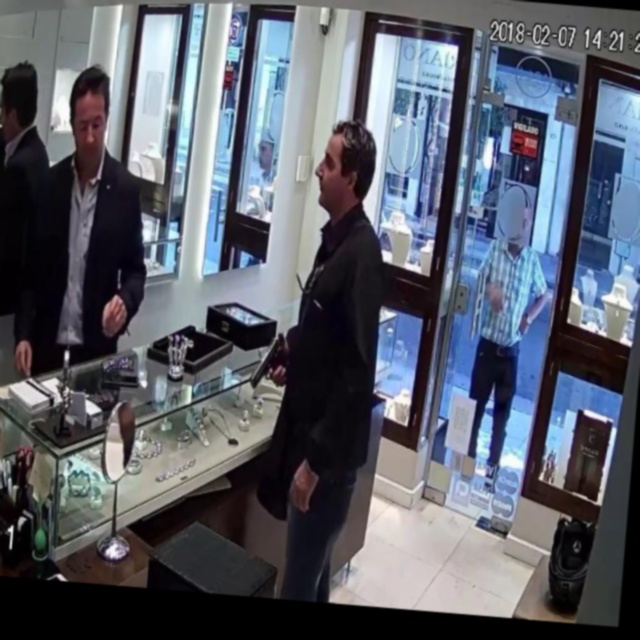gun: (245, 316, 299, 404)
